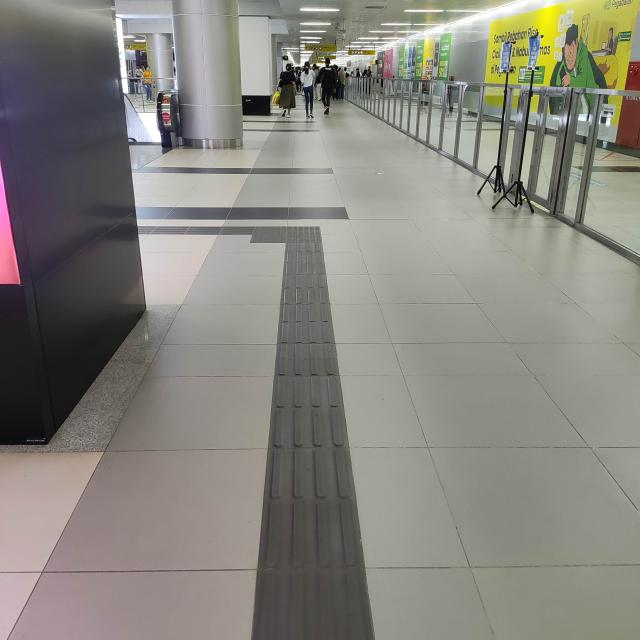kiri: (220, 214, 336, 257)
